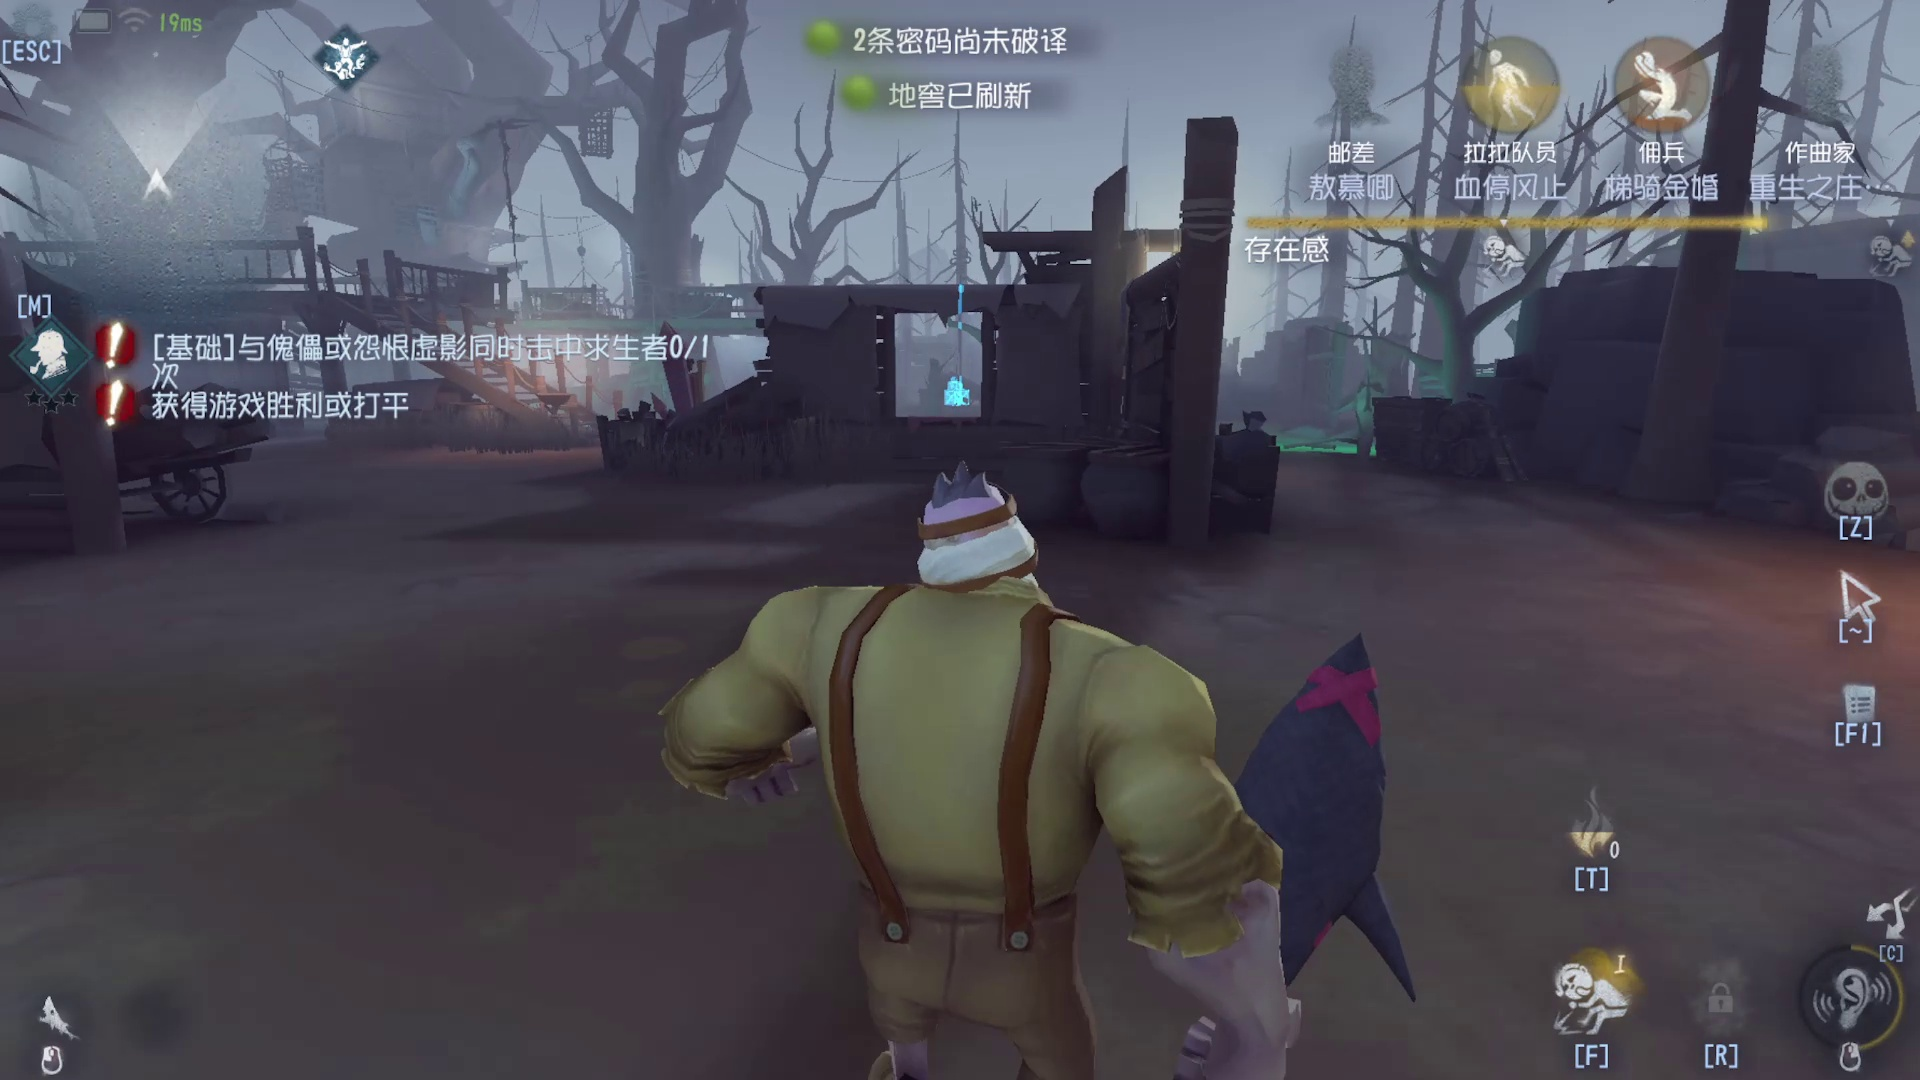密码机: (913, 225, 1004, 415)
